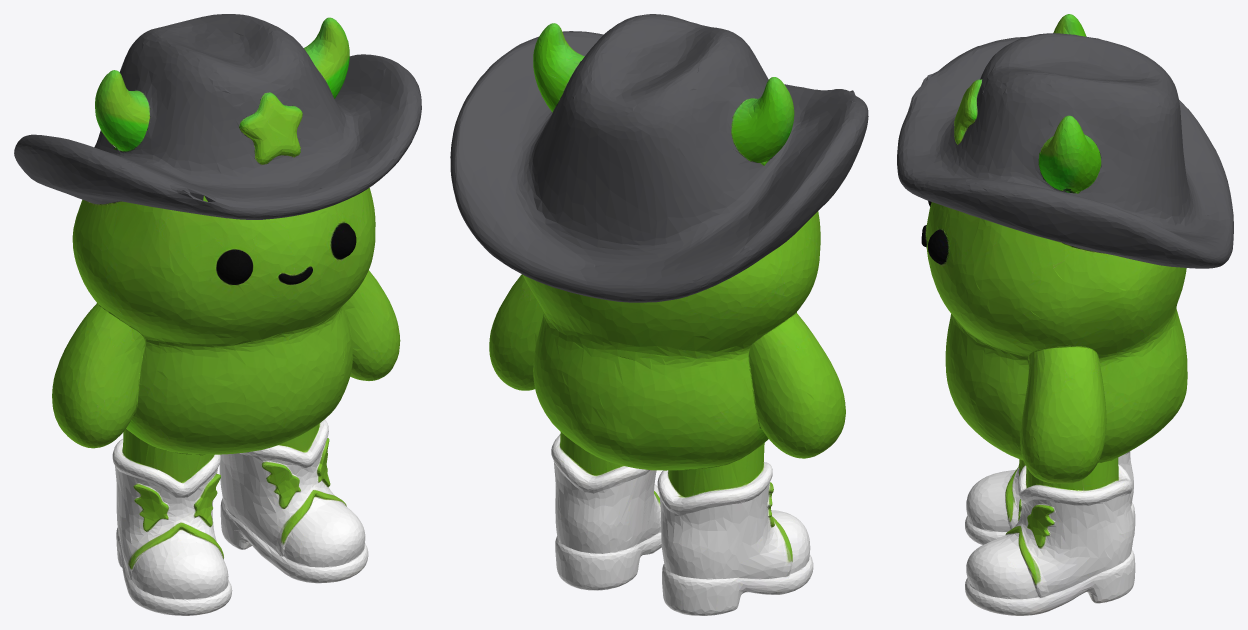
Rendered from Rebu_3D_web.glb.
The picture shows the model from 3 angles, left to right: view 1: azimuth 30°, elevation 25°; view 2: azimuth 150°, elevation 25°; view 3: azimuth 270°, elevation 25°; orthographic projection. The views are drawn at different scales.
Visible parts, largest first — view 1: Rebu_body, Rebu_hat; view 2: Rebu_body, Rebu_hat; view 3: Rebu_body, Rebu_hat.
Boxes of the visible parts, x1,y1,x2,y2 form: Rebu_body: (52, 17, 400, 615); Rebu_hat: (14, 14, 421, 219); Rebu_body: (489, 23, 845, 615); Rebu_hat: (450, 14, 868, 302); Rebu_body: (921, 14, 1187, 615); Rebu_hat: (897, 33, 1233, 268).
Bounding box in the file's own units: 1.31 × 1.9 × 1.14.
Materials: 2 (1 with a texture image).
